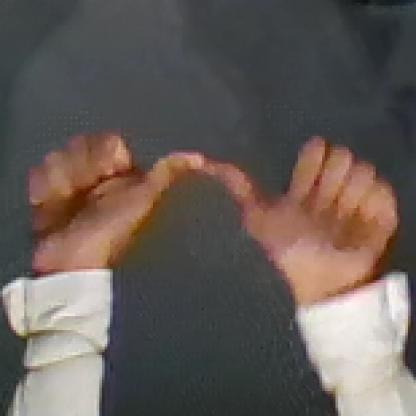A: (22, 121, 401, 299)
